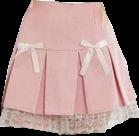Hemline: (0, 116, 138, 135), (1, 96, 136, 115)
Waistline: (15, 41, 118, 52), (31, 0, 102, 6)
